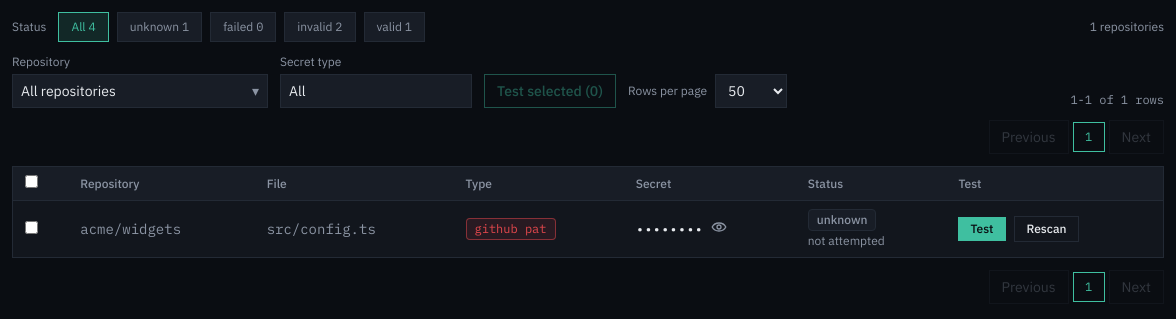
Test case: TestingPanel (regular user, scoped to own approved repos) › shows the valid/invalid/unknown breakdown right in the repository picker, not just the total
Click the button named "Repository" at (140, 91), box 12,74 -> 268,108
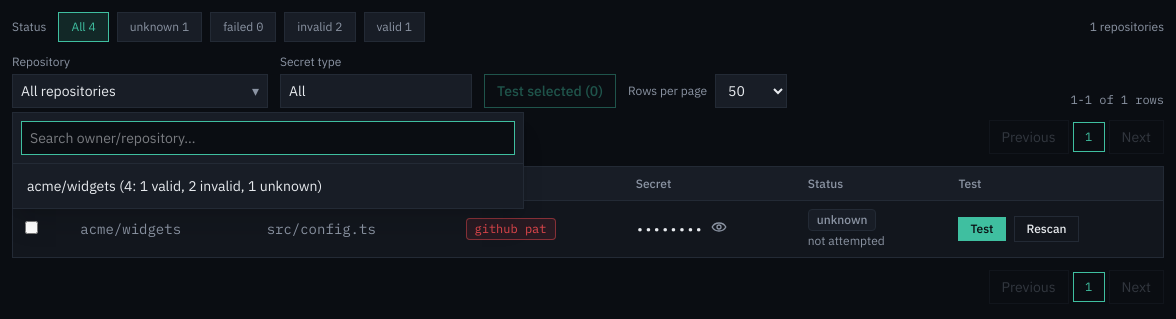
Expected: the option "acme/widgets (4: 1 valid, 2 invalid, 1 unknown)" is shown, 17,168 -> 519,204
